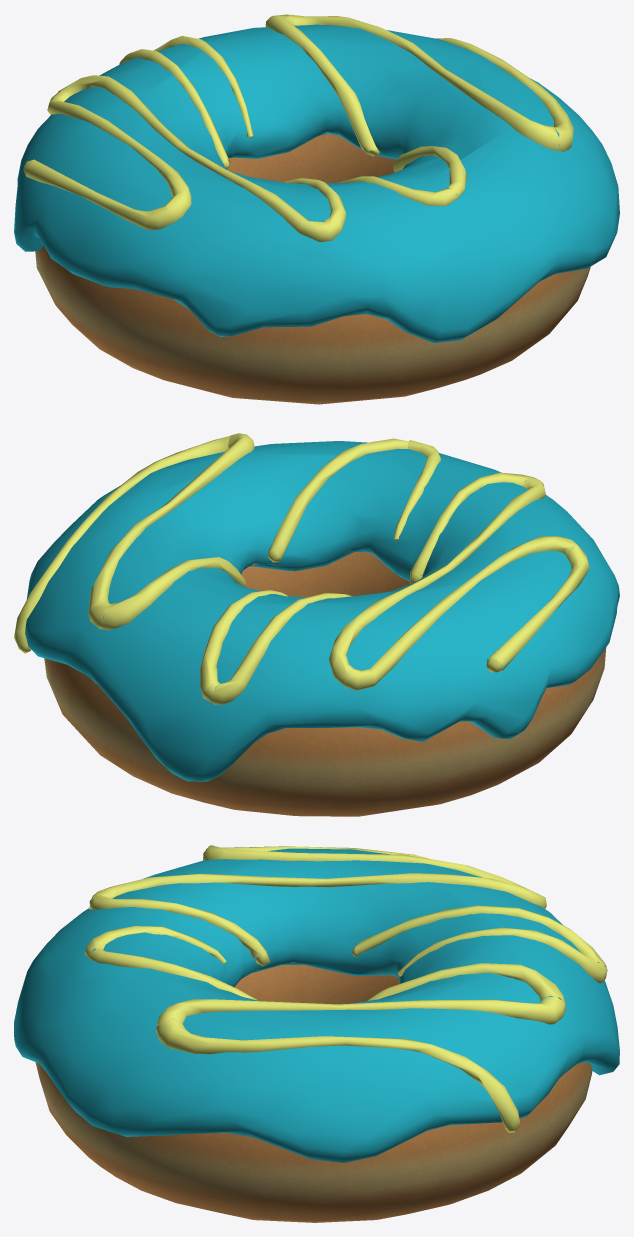
File: donut4.glb
3 views of the same model, one above another, from view 1: azimuth 30°, elevation 25°; view 2: azimuth 150°, elevation 25°; view 3: azimuth 270°, elevation 25° (orthographic).
Visible parts, largest first — view 1: Donut4; view 2: Donut4; view 3: Donut4.
Part boxes in pixels (box(x1,y1,x2,y2)): Donut4: box(14, 14, 619, 404); Donut4: box(14, 433, 619, 816); Donut4: box(14, 845, 619, 1222).
Size of the model in its own units: 2.29 by 0.8673 by 2.32.
Materials: 2 (2 with a texture image).
